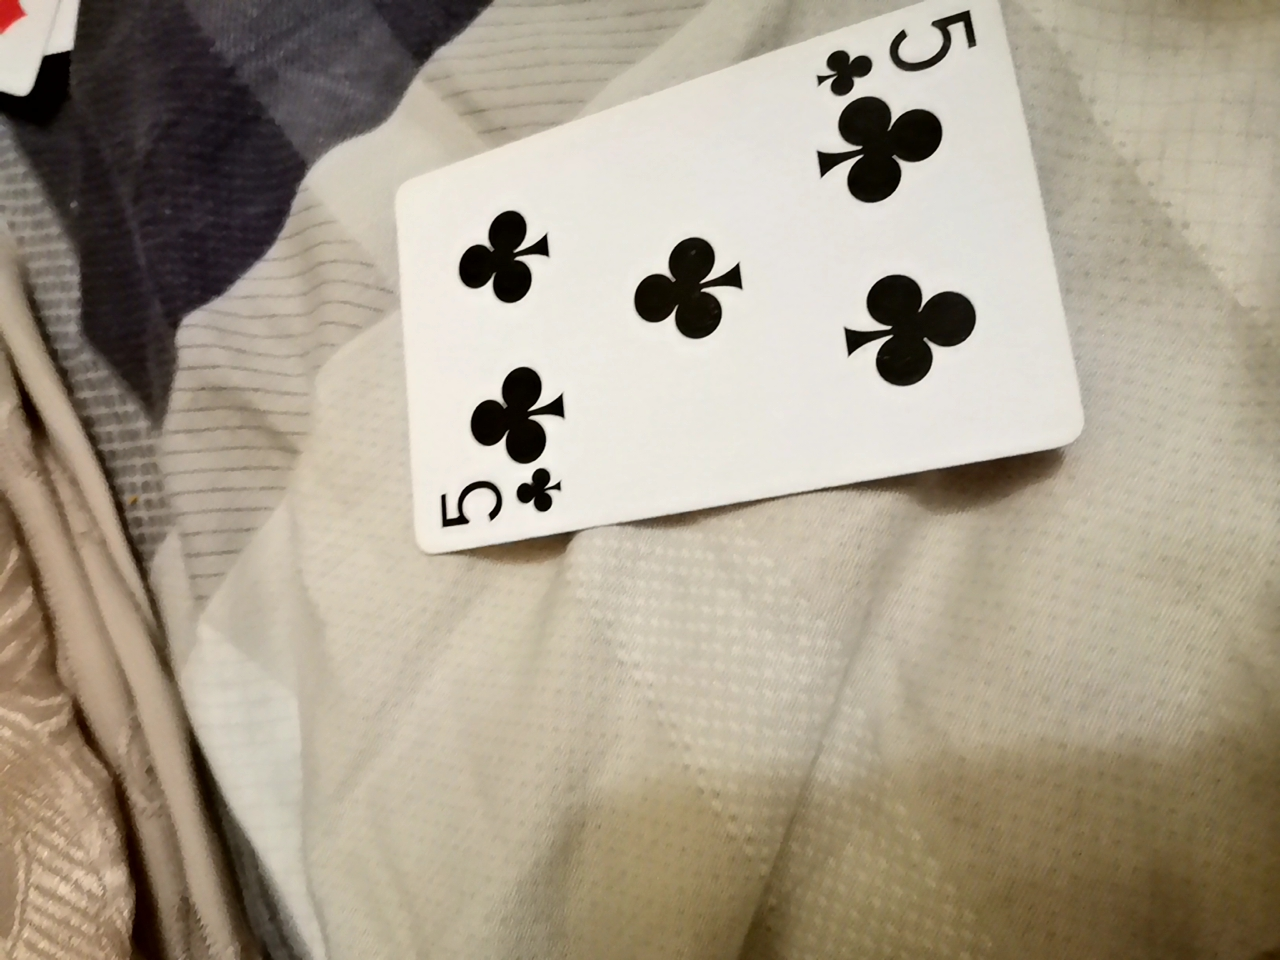mh 5: (391, 7, 1081, 565)
